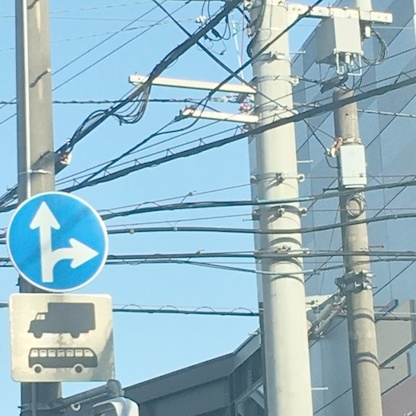Direction_sign: (1, 182, 117, 298)
